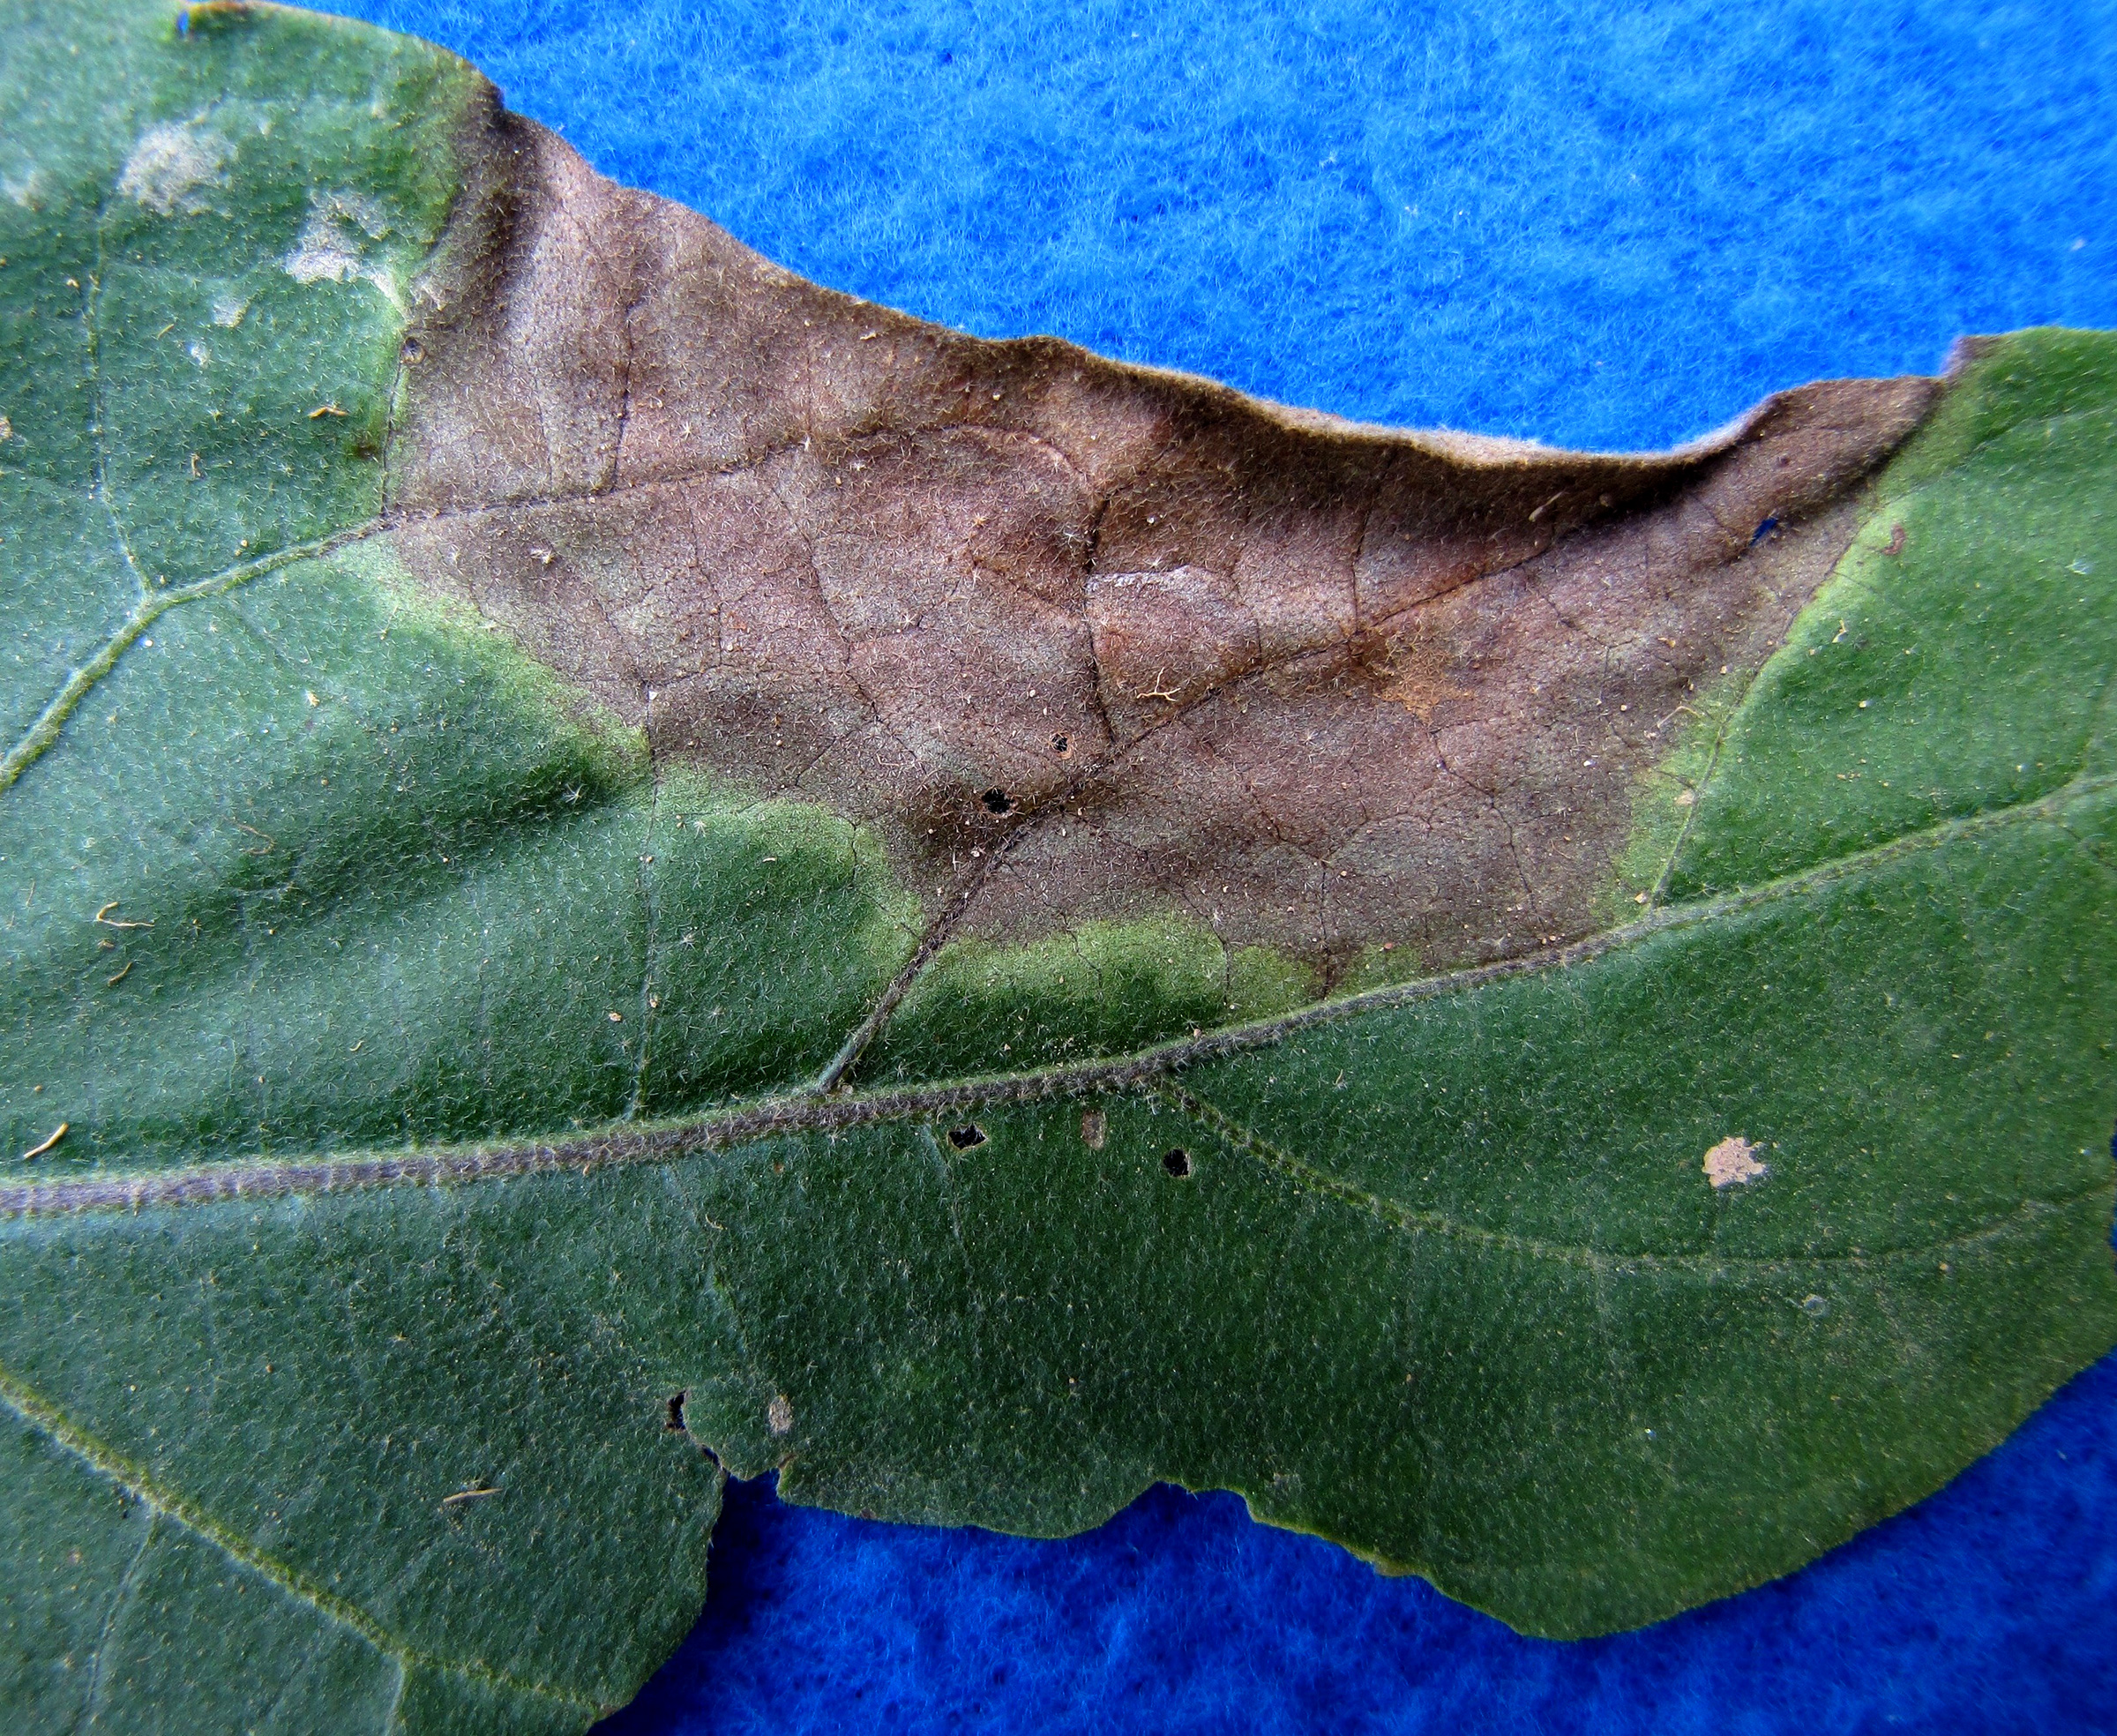Eggplant_PhytophthoraBlight: (333, 222, 1981, 1552)
